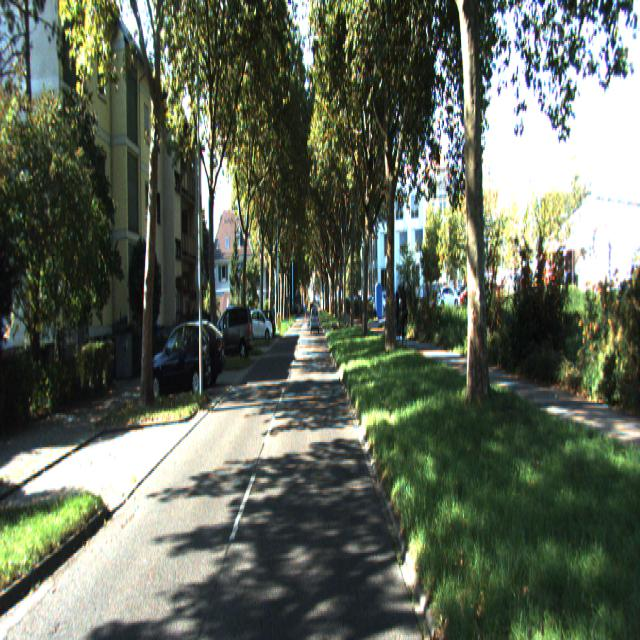Car: (147, 320, 214, 404), (209, 298, 255, 364), (248, 308, 274, 342)
